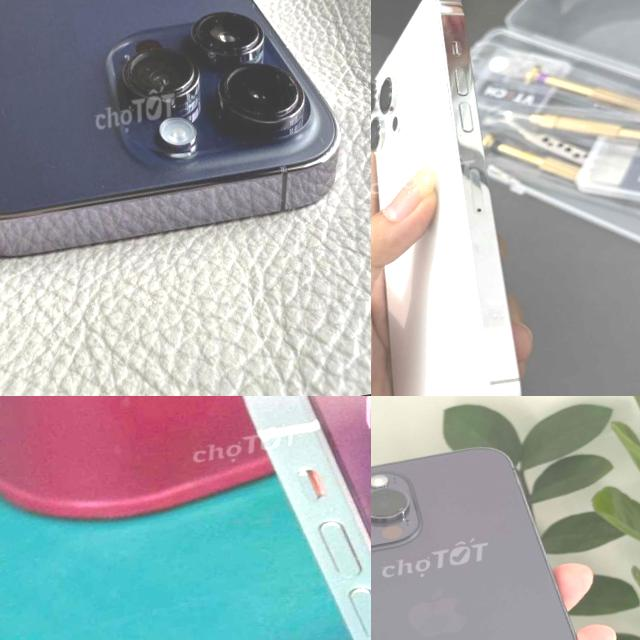gen_12_13: (192, 396, 371, 640)
gen_14: (0, 0, 363, 285), (371, 0, 548, 396), (371, 416, 625, 640)
